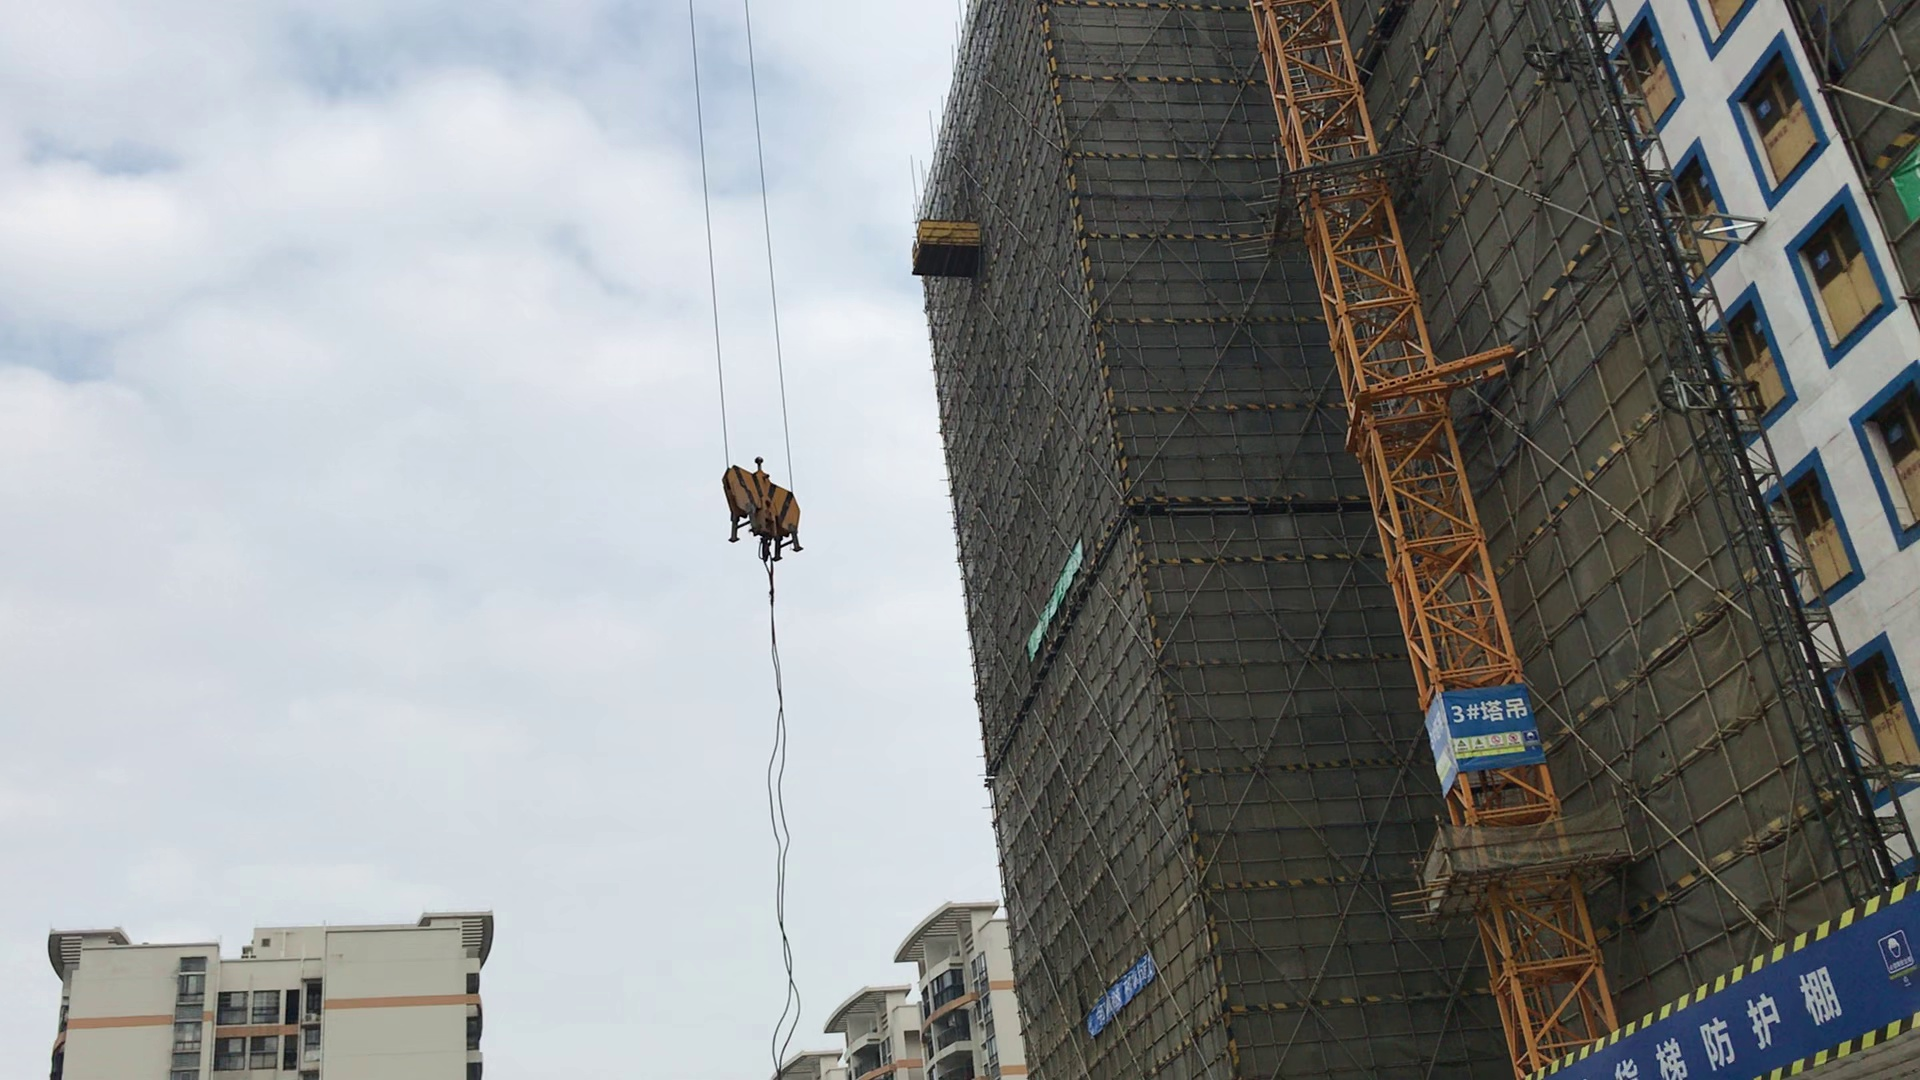hook: (704, 448, 815, 563)
slogan: (1519, 880, 1919, 1080), (1030, 542, 1085, 657), (1076, 975, 1156, 1042)
